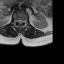CCS_normal: (19, 17, 21, 26)
LFS_normal: (23, 18, 25, 24)
LLS_normal: (21, 17, 23, 25)
RFS_normal: (15, 18, 17, 23)
RLS_normal: (17, 17, 19, 24)
